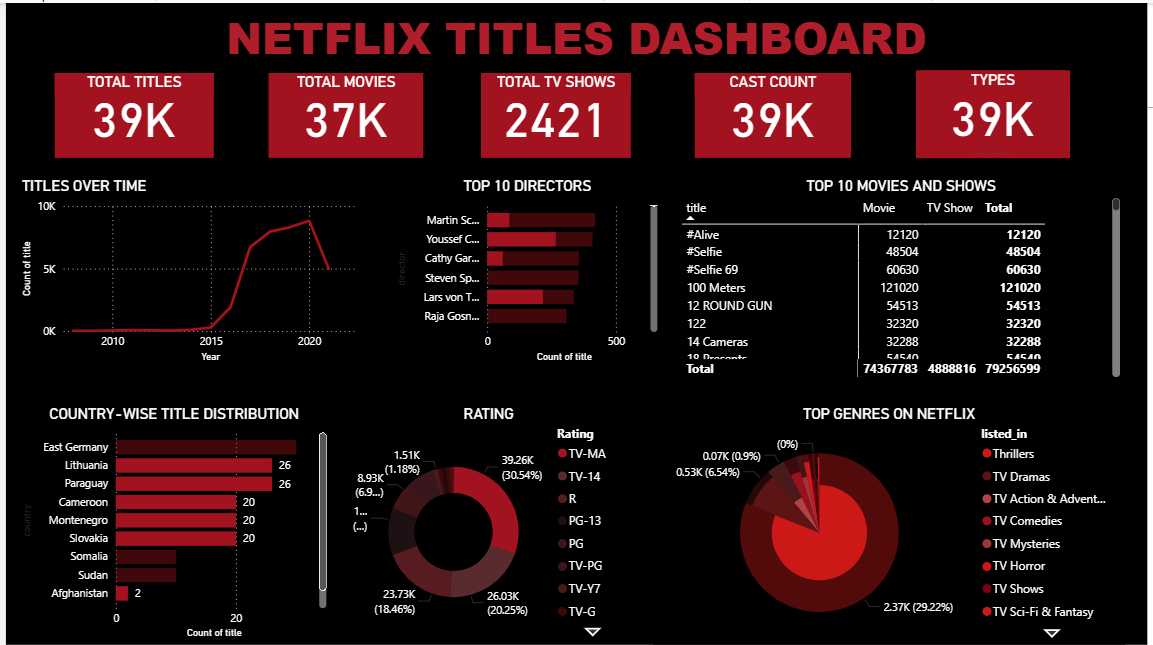

What the dashboard file says about the page in this screenshot:
{"tool":"powerbi","page":{"name":"Page 1","canvas":[1280,720],"ordinal":0},"visuals":[{"type":"textbox","box":[0,0,1280,720],"z":0},{"type":"card","title":"TOTAL TITLES","fields":{"Values":["netflix_titles_Sheet.Total Titles"]},"box":[54.7,78.5,178.1,95.4],"z":1000},{"type":"card","title":"TOTAL MOVIES","fields":{"Values":["netflix_titles_Sheet.Total Movies"]},"box":[294.5,78.5,173.9,95.4],"z":2000},{"type":"card","title":"TOTAL TV SHOWS","fields":{"Values":["netflix_titles_Sheet.Total TV Shows"]},"box":[532.9,78.5,168.3,95.4],"z":3000},{"type":"lineChart","title":"TITLES OVER TIME","fields":{"Category":["netflix_titles_Sheet.Year"],"Y":["netflix_titles_Sheet.title"]},"box":[12.6,194.9,389.8,213.1],"z":4000},{"type":"barChart","title":"COUNTRY-WISE TITLE DISTRIBUTION","fields":{"Category":["netflix_titles_Sheet.country"],"Y":["netflix_titles_Sheet.title"]},"box":[12.6,450.1,352,267.8],"z":5000},{"type":"barChart","title":"TOP 10 DIRECTORS","fields":{"Category":["netflix_titles_Sheet.director"],"Y":["netflix_titles_Sheet.title"]},"box":[433.3,194.9,302.9,213.1],"z":6000},{"type":"donutChart","title":"RATING","fields":{"Y":["netflix_titles_Sheet.title"],"Category":["netflix_titles_Sheet.rating"]},"box":[381.4,450.1,319.7,267.8],"z":7000},{"type":"pivotTable","title":"TOP 10 MOVIES AND SHOWS","fields":{"Rows":["netflix_titles_Sheet.title"],"Columns":["netflix_titles_Sheet.type"],"Values":["netflix_titles_Sheet.Year"]},"box":[753,194.9,502,230],"z":8000},{"type":"pieChart","title":"TOP GENRES ON NETFLIX ","fields":{"Category":["netflix_titles_Sheet.listed_in"],"Y":["netflix_titles_Sheet.title"]},"box":[726.4,450.1,528.7,269.2],"z":9000},{"type":"card","title":"CAST COUNT","fields":{"Values":["netflix_titles_Sheet.Cast_count"]},"box":[772.7,78.5,175.3,95.4],"z":10000},{"type":"card","title":"TYPES","fields":{"Values":["netflix_titles_Sheet.TYPES"]},"box":[1020.9,75.7,172.5,98.2],"z":11000}]}

Visuals, with their boxes in screenshot pixels (x1, y1, x2, y2), scaled from the page's 1280x720 canvas onto the 1153x645 screenshot:
textbox: [x1=0, y1=0, x2=1152, y2=644]
"TOTAL TITLES" card: [x1=49, y1=70, x2=210, y2=156]
"TOTAL MOVIES" card: [x1=265, y1=70, x2=422, y2=156]
"TOTAL TV SHOWS" card: [x1=480, y1=70, x2=632, y2=156]
"TITLES OVER TIME" lineChart: [x1=11, y1=175, x2=362, y2=366]
"COUNTRY-WISE TITLE DISTRIBUTION" barChart: [x1=11, y1=403, x2=328, y2=643]
"TOP 10 DIRECTORS" barChart: [x1=390, y1=175, x2=663, y2=366]
"RATING" donutChart: [x1=344, y1=403, x2=632, y2=643]
"TOP 10 MOVIES AND SHOWS" pivotTable: [x1=678, y1=175, x2=1130, y2=381]
"TOP GENRES ON NETFLIX " pieChart: [x1=654, y1=403, x2=1131, y2=644]
"CAST COUNT" card: [x1=696, y1=70, x2=854, y2=156]
"TYPES" card: [x1=920, y1=68, x2=1075, y2=156]
